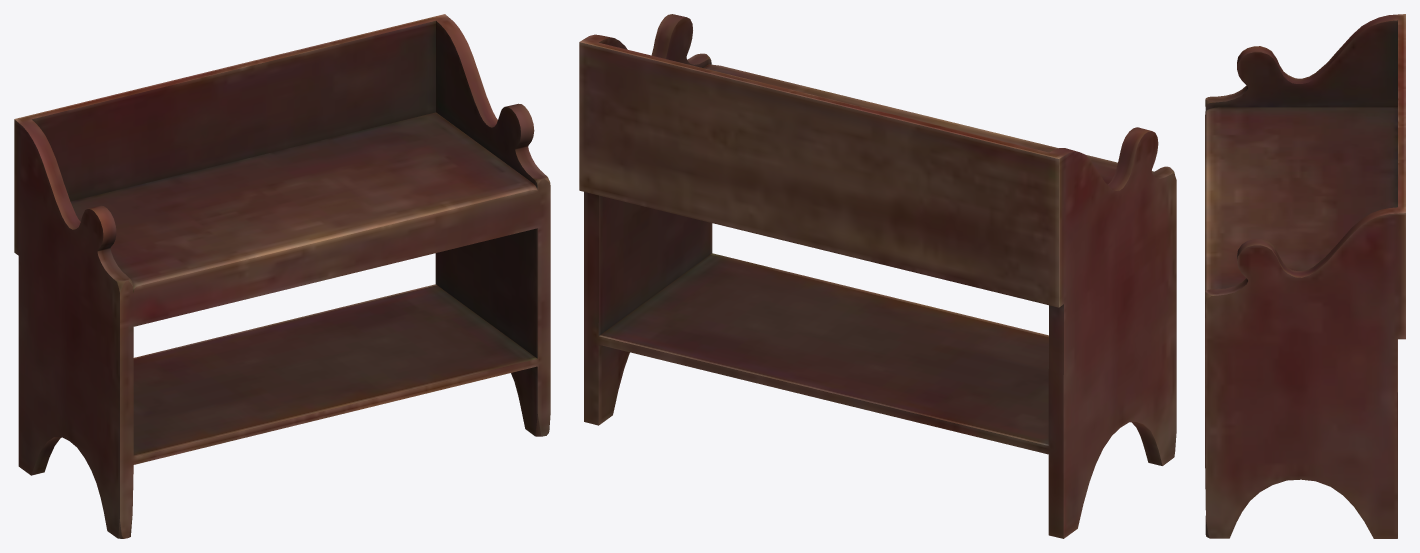
Rendered from painted_wooden_bench.glb.
3 views of the same model, side by side, from view 1: azimuth 30°, elevation 25°; view 2: azimuth 150°, elevation 25°; view 3: azimuth 270°, elevation 25° (orthographic). The views are drawn at different scales.
Parts seen in each view (by area): view 1: painted_wooden_bench; view 2: painted_wooden_bench; view 3: painted_wooden_bench.
Part boxes in pixels (left/top/right/bottom): painted_wooden_bench: left=14, top=14, right=550, bottom=538; painted_wooden_bench: left=579, top=14, right=1176, bottom=538; painted_wooden_bench: left=1205, top=14, right=1405, bottom=538.
Size of the model in its own units: 1.16 by 0.8893 by 0.4965.
Materials: 1 (1 with a texture image).
